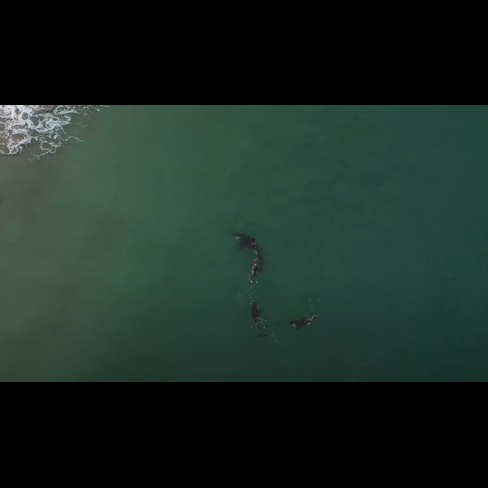orca: (227, 226, 266, 258), (248, 293, 268, 339), (284, 311, 322, 330), (244, 261, 261, 288)
